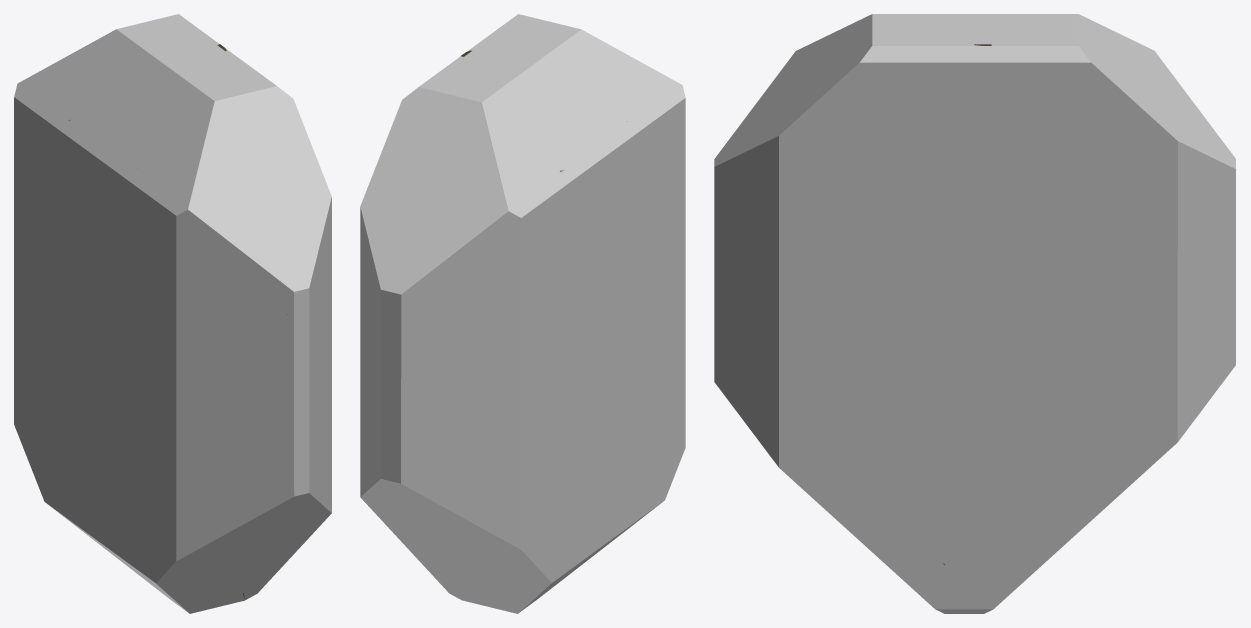
File: SM_Ritual01.fbx
The picture shows the model from 3 angles, left to right: view 1: azimuth 30°, elevation 25°; view 2: azimuth 150°, elevation 25°; view 3: azimuth 270°, elevation 25°; orthographic projection. The views are drawn at different scales.
Visible parts, largest first — view 1: SM_Ritual01_ConvexHulls; view 2: SM_Ritual01_ConvexHulls; view 3: SM_Ritual01_ConvexHulls.
Part boxes in pixels (x1,y1,x2,y2): SM_Ritual01_ConvexHulls: [14, 14, 331, 613]; SM_Ritual01_ConvexHulls: [360, 14, 685, 613]; SM_Ritual01_ConvexHulls: [714, 14, 1235, 613].
Size of the model in its own units: 101 by 298 by 357.
